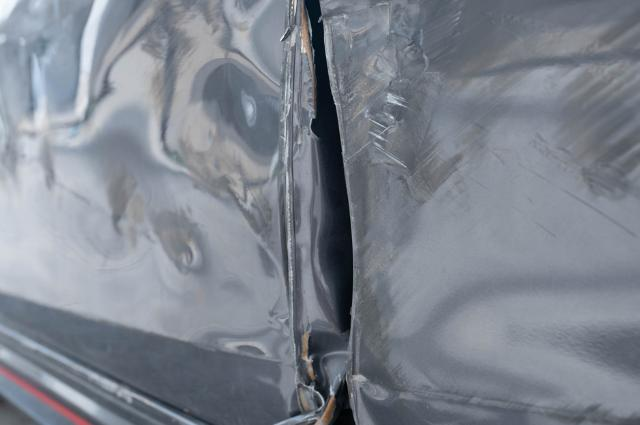Door: (133, 0, 640, 425)
